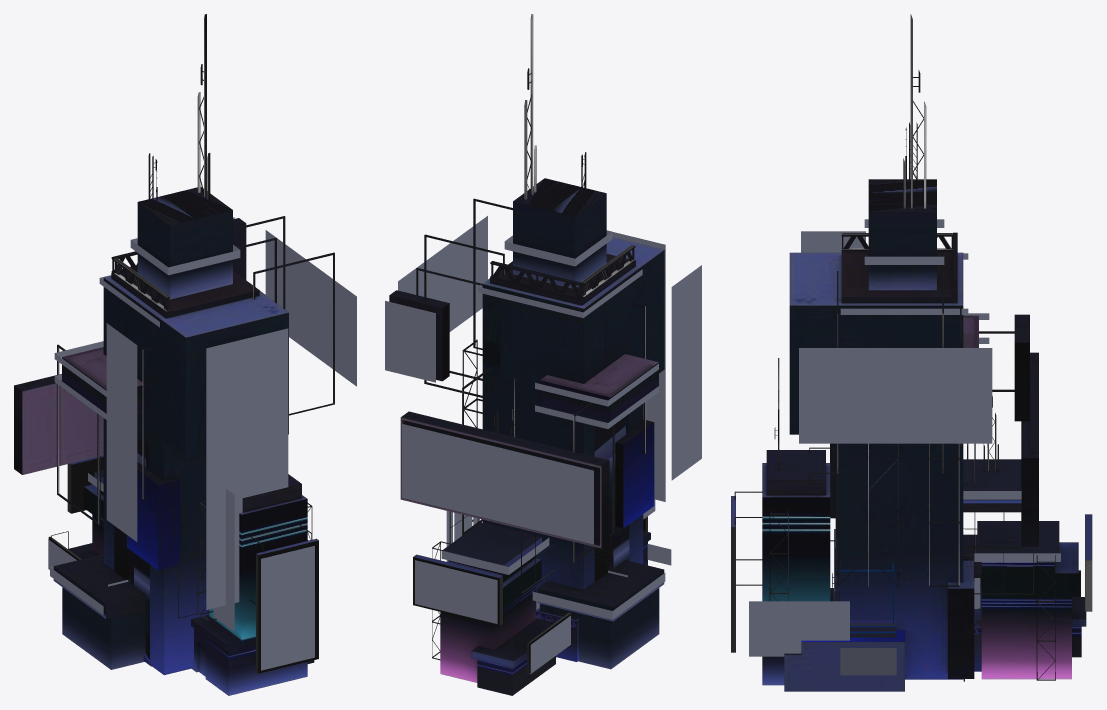
The model's file is aifrahat-city-kit.glb.
The picture shows the model from 3 angles, left to right: view 1: azimuth 30°, elevation 25°; view 2: azimuth 150°, elevation 25°; view 3: azimuth 270°, elevation 25°; orthographic projection. The views are drawn at different scales.
Parts seen in each view (by area): view 1: building_1, billboard_1_screen, building_2, billboard_2_screen; view 2: building_1, billboard_1_screen, building_2, billboard_2_screen, ramp; view 3: building_1, building_2, billboard_1_screen, billboard_2_screen, ramp_screen, ramp.
Boxes of the visible parts, x1,y1,x2,y2 form: building_1: [14, 14, 334, 675]; billboard_1_screen: [50, 217, 356, 614]; building_2: [48, 455, 318, 695]; billboard_2_screen: [48, 473, 314, 670]; building_1: [389, 14, 664, 669]; billboard_1_screen: [385, 216, 701, 619]; building_2: [413, 379, 650, 695]; billboard_2_screen: [415, 401, 671, 673]; ramp: [535, 610, 579, 661]; building_1: [784, 14, 1038, 691]; building_2: [731, 358, 1092, 685]; billboard_1_screen: [799, 219, 992, 443]; billboard_2_screen: [749, 491, 1060, 656]; ramp_screen: [834, 529, 896, 675]; ramp: [832, 538, 981, 671].
Size of what is drawn, in the model's own units: 59.96 by 155 by 77.62.
11 materials, 4 textured.
